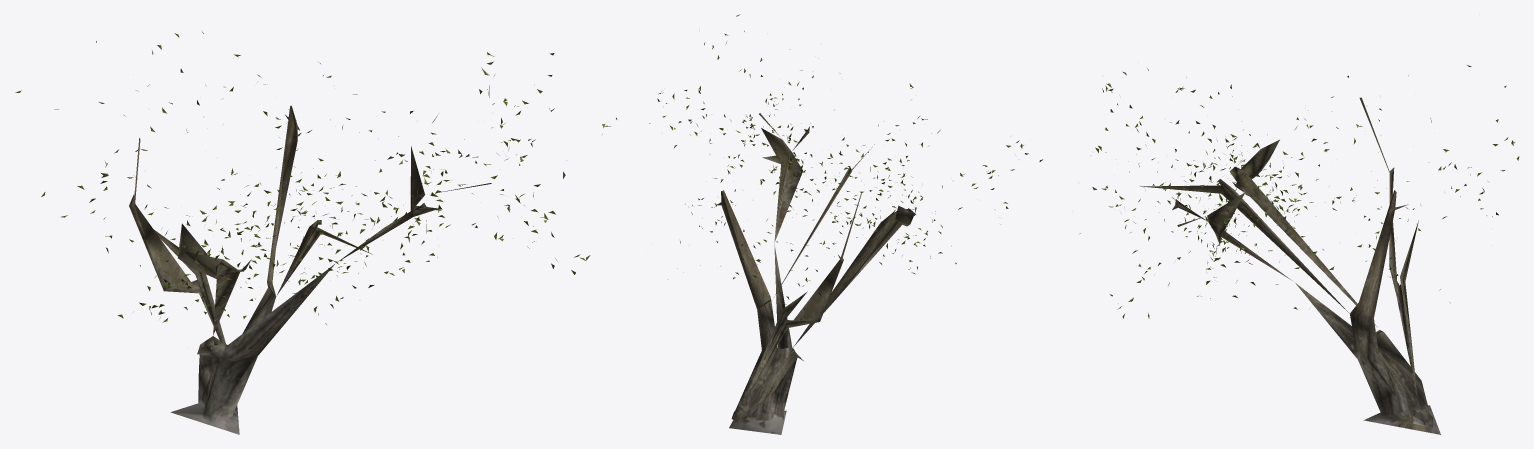
File: island2_lod2.glb
3 views of the same model, side by side, from view 1: azimuth 30°, elevation 25°; view 2: azimuth 150°, elevation 25°; view 3: azimuth 270°, elevation 25° (orthographic). The views are drawn at different scales.
Parts seen in each view (by area): view 1: island_tree_02_LOD0; view 2: island_tree_02_LOD0; view 3: island_tree_02_LOD0.
Boxes of the visible parts, <box> form: island_tree_02_LOD0: <box>15,31,617,434</box>; island_tree_02_LOD0: <box>649,14,1042,434</box>; island_tree_02_LOD0: <box>1079,65,1519,434</box>.
Bounding box in the file's own units: 3.73 × 3.27 × 3.77.
3 materials, 3 textured.
